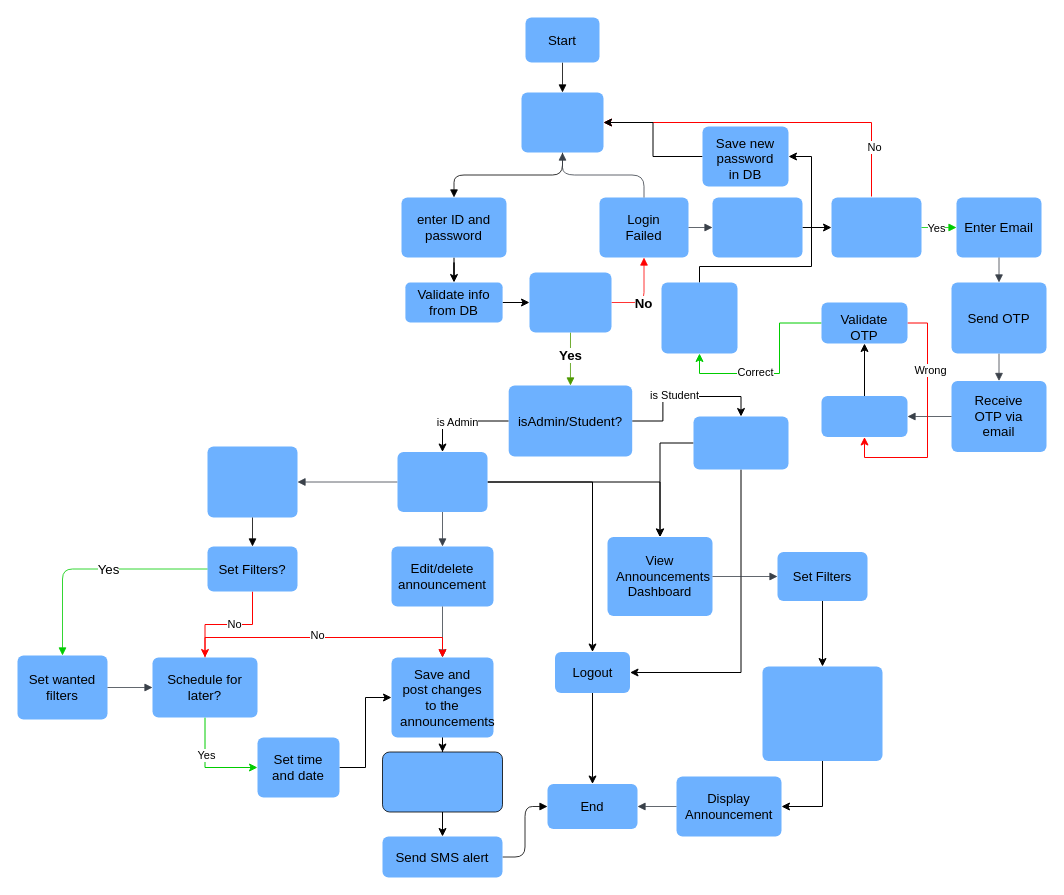
Image size: 1064x895. Some labels were removed from this diagram. Each missing label, with the centre of its shape:
"add announcement" belongs at (x=252, y=481).
"Admin Dashboard" belongs at (x=442, y=481).
"Create a new password" belongs at (x=699, y=317).
"creds correct?" belongs at (x=570, y=302).
"Enter OTP" belongs at (x=864, y=416).
"Insert data into the DB" belongs at (x=442, y=781).
"Login" belongs at (x=562, y=122).
"Provide Error Message" belongs at (x=757, y=227).
"Reset Password" belongs at (x=876, y=227).
"Retrieve Announcements from DB according to set filters" belongs at (x=822, y=713).
"Student Dashboard" belongs at (x=740, y=442).
